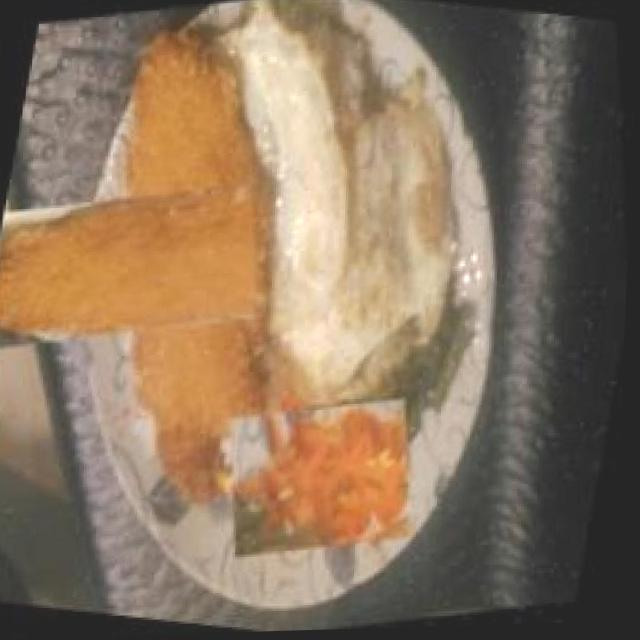carrot_eggs: (207, 374, 440, 583)
fried_chicken: (0, 56, 406, 463)
fried_eggs: (174, 0, 530, 444)
